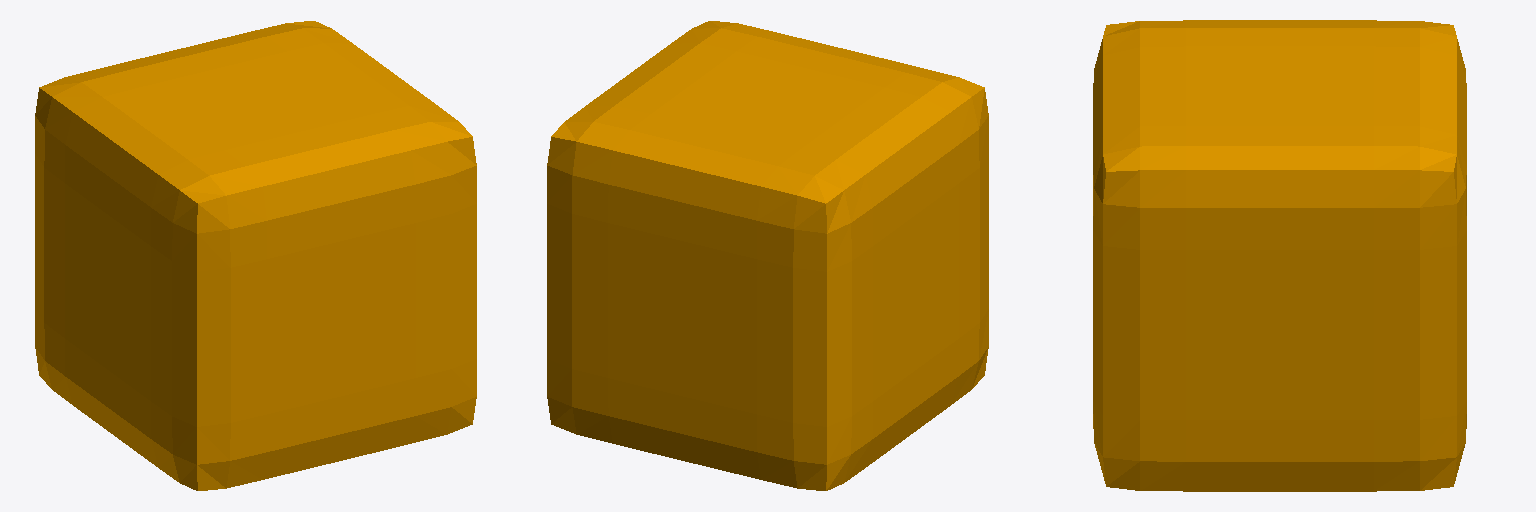
URDF robot description (cube):
<?xml version="1.0" ?>
<robot name="cube" xmlns:xacro="http://www.ros.org/wiki/xacro">
    <link name="cube_0">
        <inertial>
            <origin rpy="0 0 0.0" xyz="0 0 0.06"/>
            <mass value="0.6"/>
            <inertia ixx="0.05" ixy="0" ixz="0" iyy="0.06" iyz="0" izz="0.03"/>
        </inertial>
        <visual>
            <origin rpy="0 0 0" xyz="0 0 0.06"/>
            <geometry>
                <mesh filename="package://kuka_gripper_description/meshes/cube.obj"/>
            </geometry>
        </visual>
        <collision>
            <origin rpy="0 0 0" xyz="0 0 0.06"/>
            <geometry>
                <mesh filename="package://kuka_gripper_description/meshes/cube.obj"/>
            </geometry>
        </collision>
    </link>
</robot>

--- Facts derived from the render (not from the file) ---
Views: 3 orthographic renders of the robot side by side, from view 1: azimuth 30°, elevation 25°; view 2: azimuth 150°, elevation 25°; view 3: azimuth 270°, elevation 25°.
Robot: cube — 1 links, 0 joints (none); root link cube_0; default pose: every joint at zero.
Visible links, largest first — view 1: cube_0; view 2: cube_0; view 3: cube_0.
Link boxes in pixels (x1=…): cube_0: x1=35, y1=21, x2=476, y2=490; cube_0: x1=547, y1=21, x2=988, y2=490; cube_0: x1=1093, y1=20, x2=1466, y2=491.
Bounding box of the posed robot: 0.08 × 0.08 × 0.08 m (x, y, z).
1 mesh visuals loaded from 1 distinct referenced files (1 OBJ).